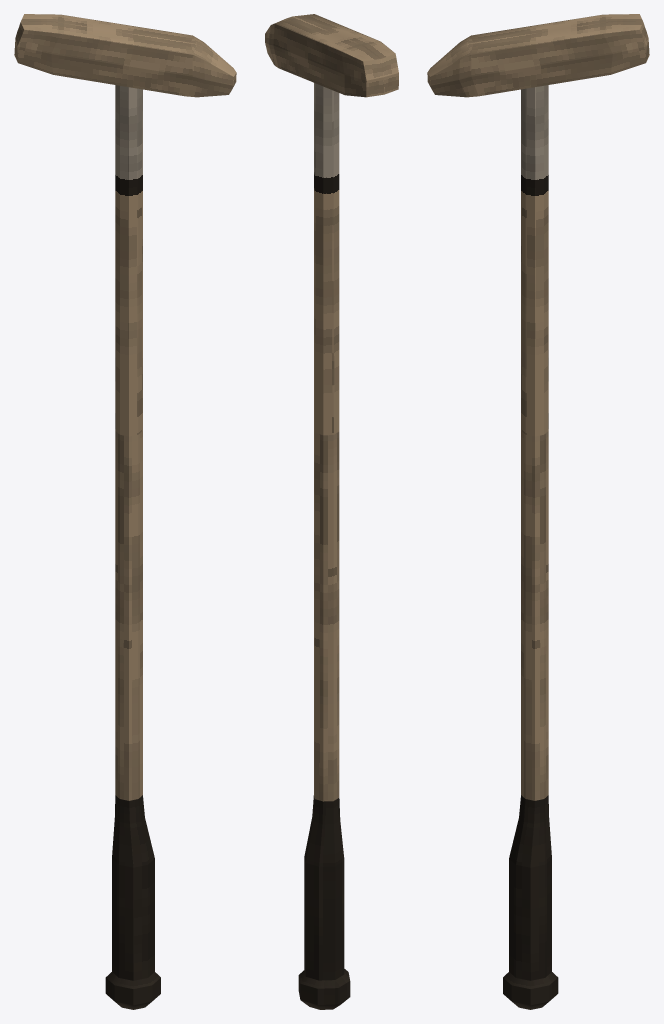
The model's file is E_PoloStick.fbx.
3 views of the same model, side by side, from view 1: azimuth 90°, elevation 25°; view 2: azimuth 210°, elevation 25°; view 3: azimuth 270°, elevation 25° (orthographic).
Parts seen in each view (by area): view 1: polostick; view 2: polostick; view 3: polostick.
Boxes of the visible parts, x1,y1,x2,y2 form: polostick: (14, 14, 236, 1009); polostick: (265, 14, 398, 1009); polostick: (427, 14, 649, 1009).
Bounding box in the file's own units: 38.48 × 752 × 154.
